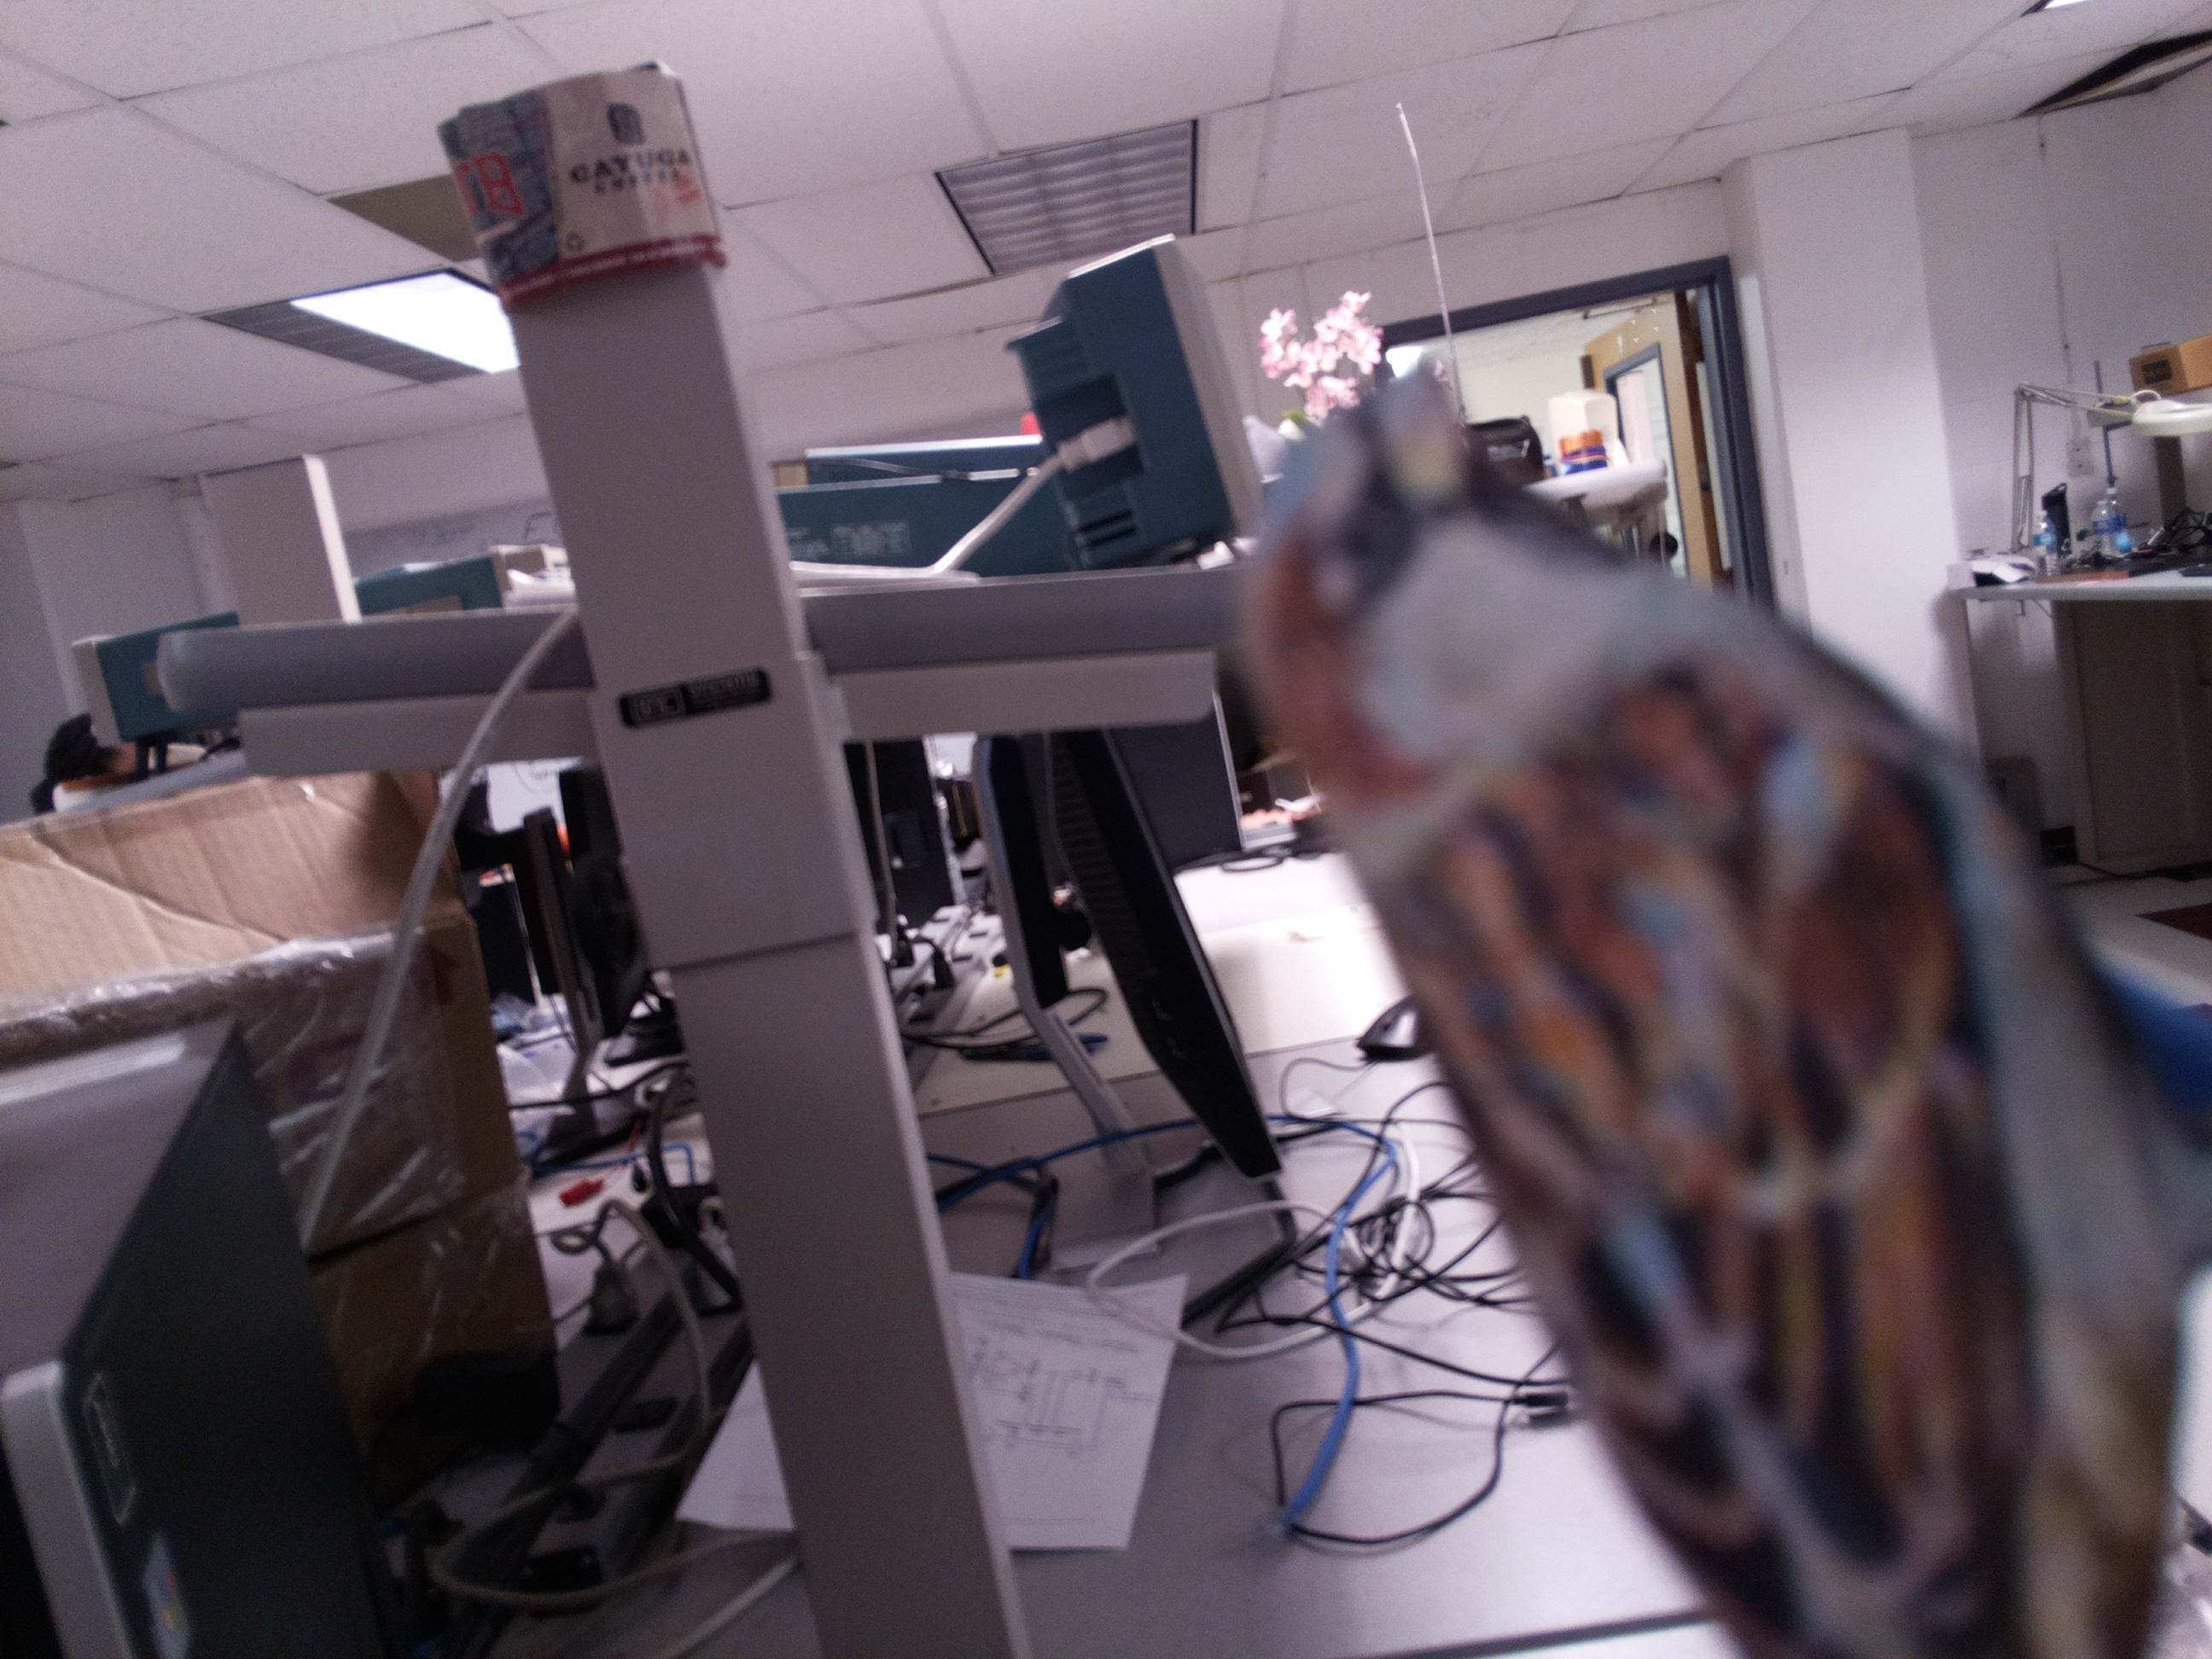bird: (1223, 354, 2212, 1659)
